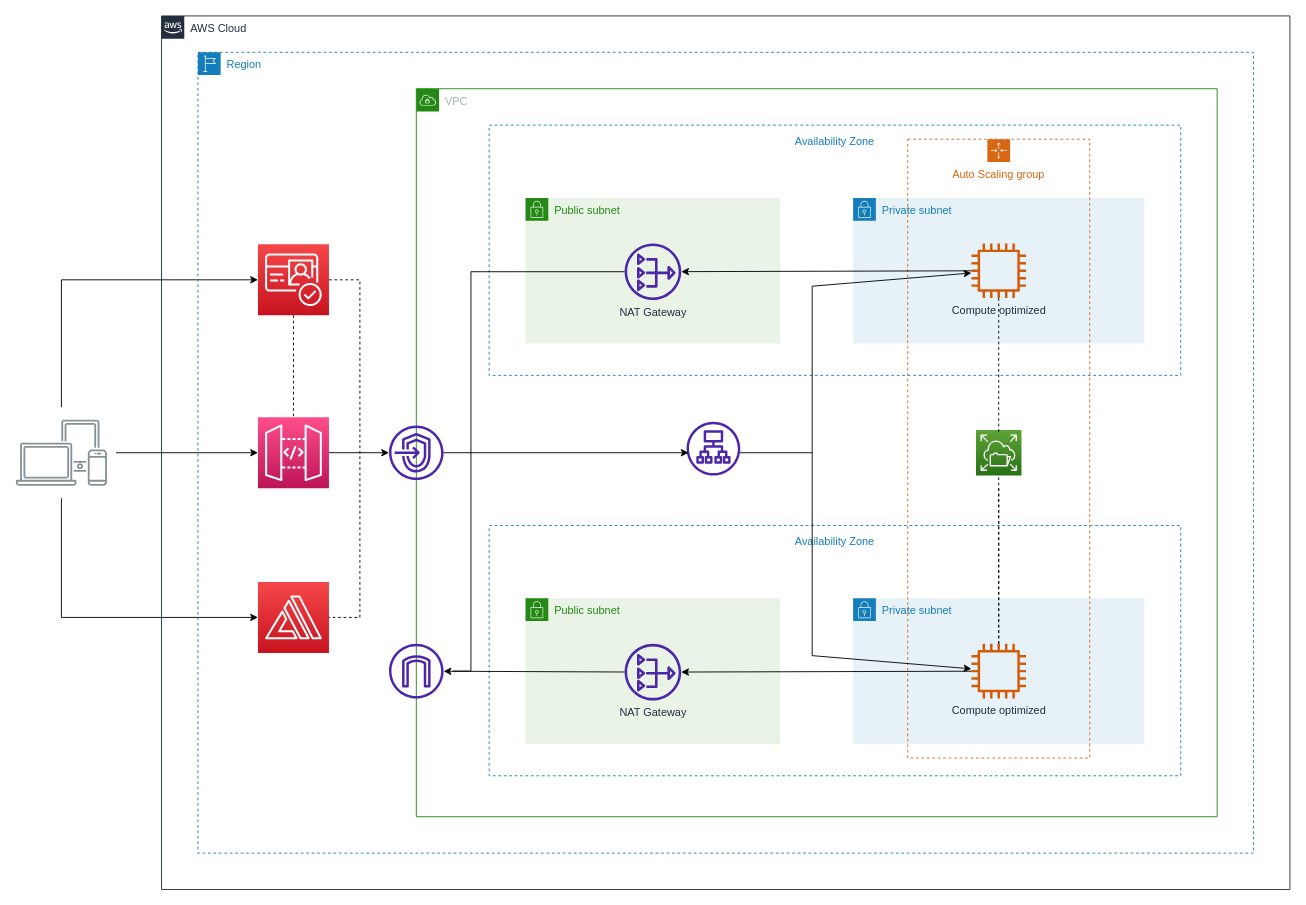
This 1306x905 diagram has some shape labels left out. Here are the shapes that lost their labels. From the top down, the centre of each, then its label:
[293,279]: Amazon Cognito
[293,452]: API Gateway
[416,452]: VPC Link
[713,448]: ALB
[998,452]: EFS
[293,617]: AWS Amplify
[416,670]: Internet Gateway
